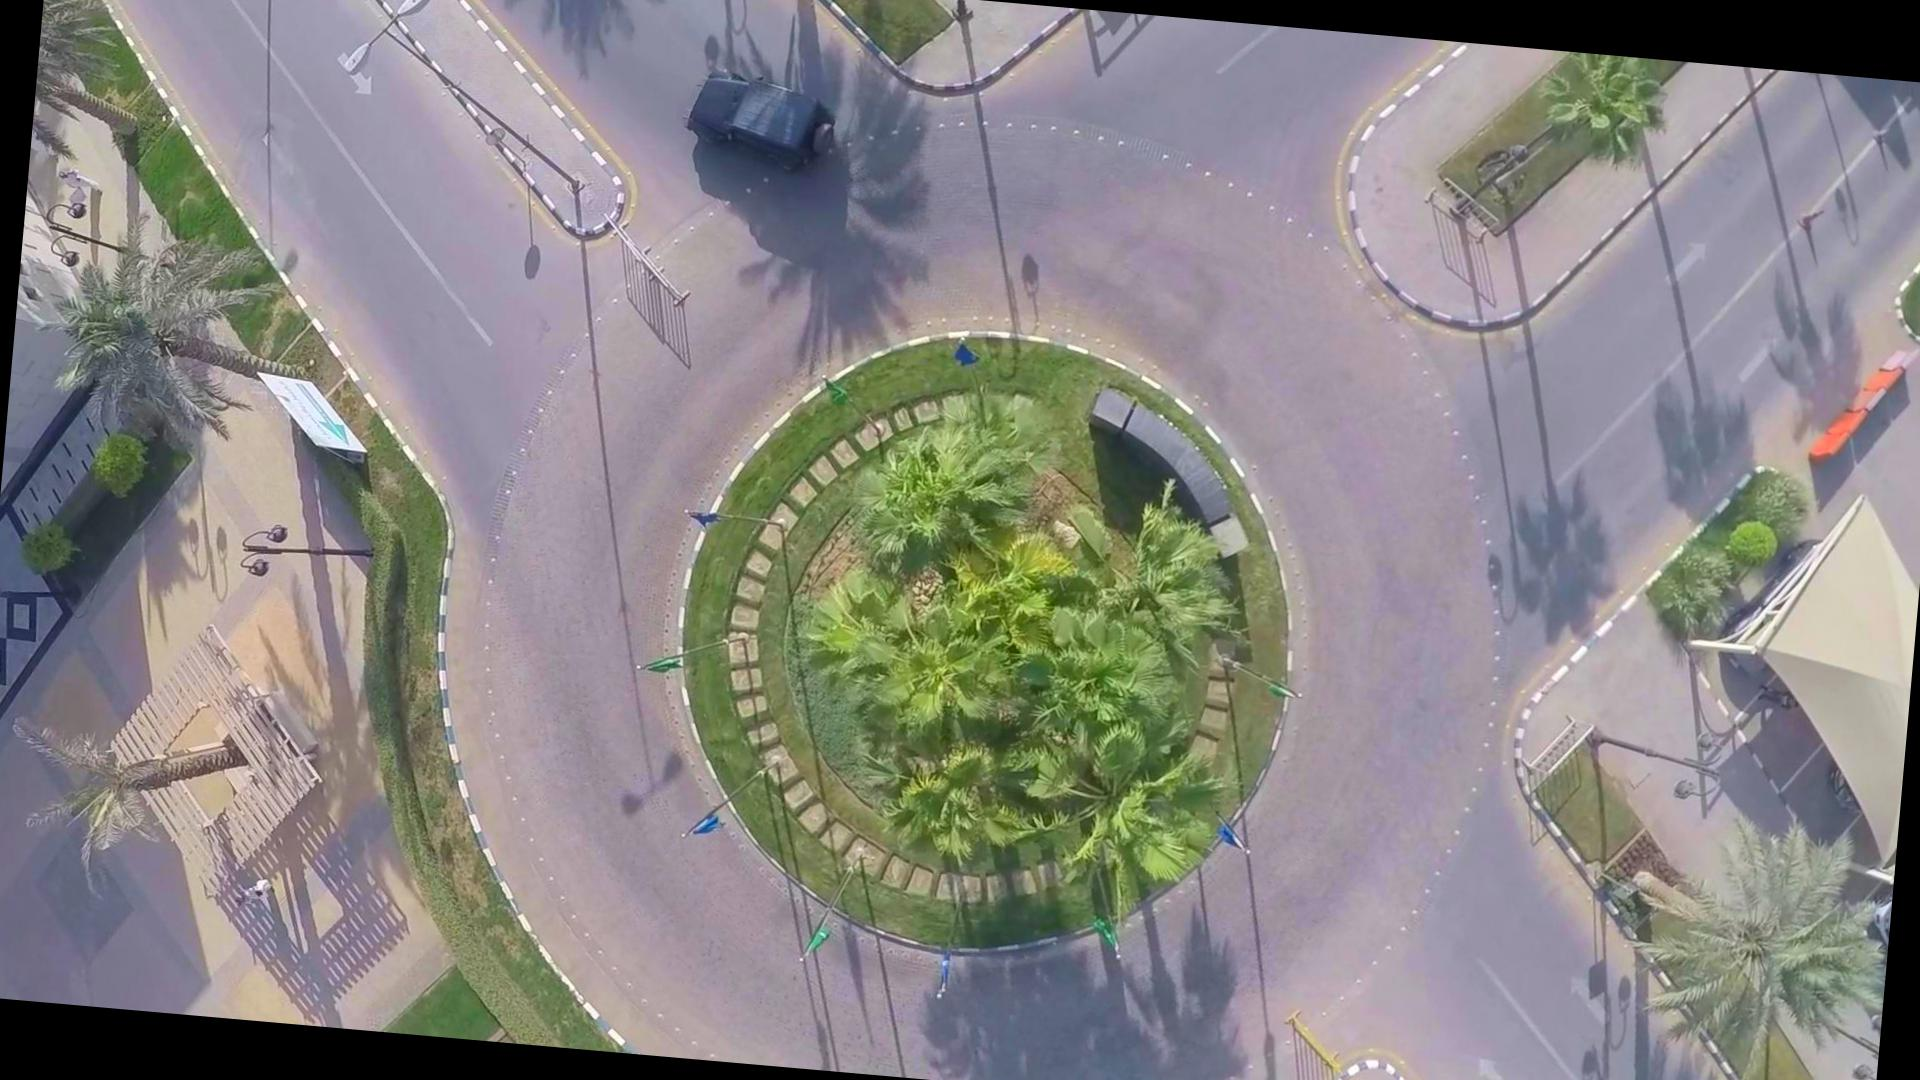vehicle: (670, 54, 840, 178)
